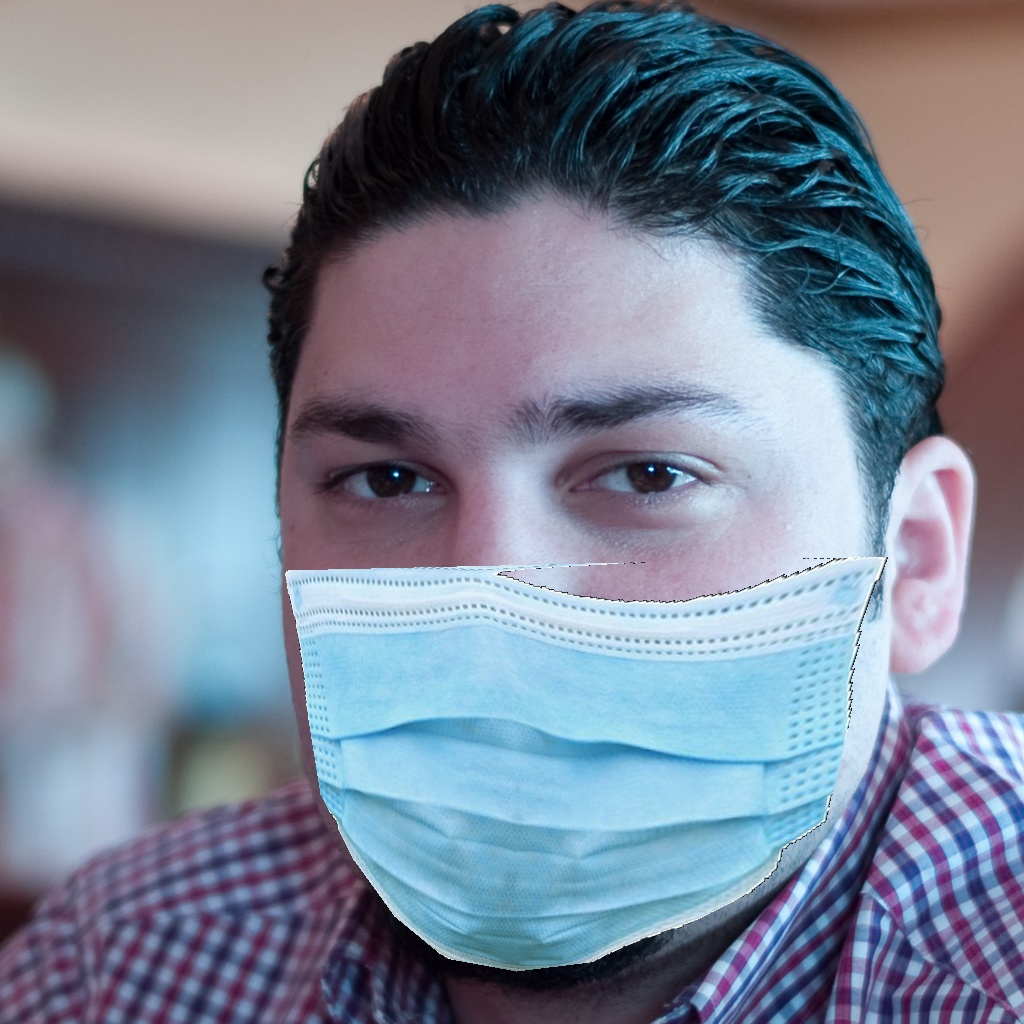Mask: (275, 363, 893, 970)
